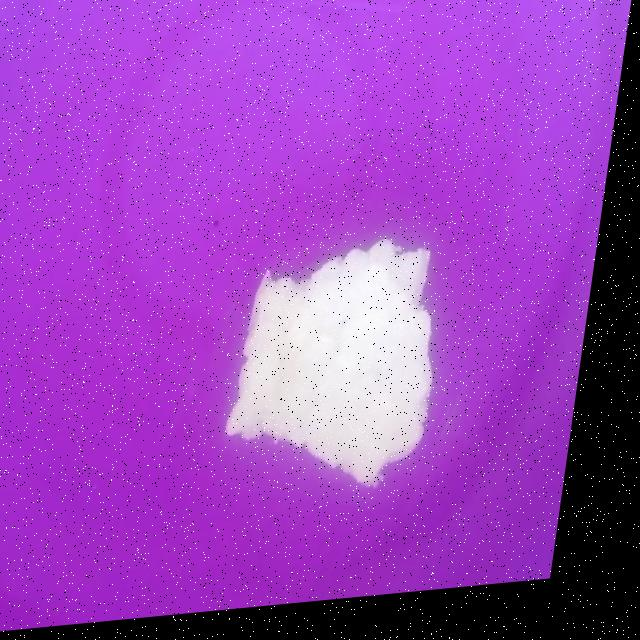thermocoal: (187, 189, 524, 528)
